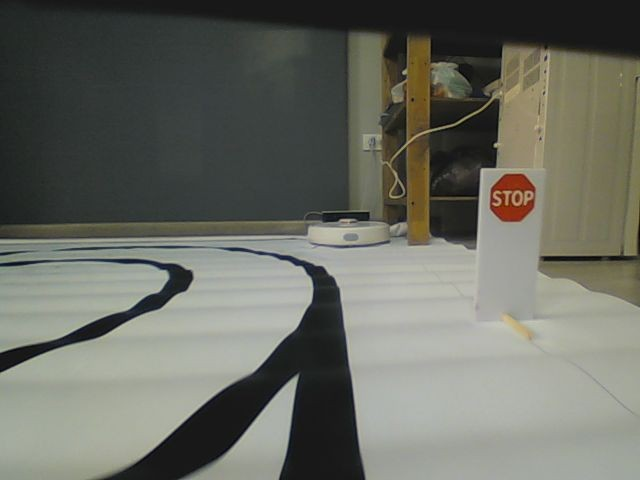Stop: (487, 173, 537, 223)
